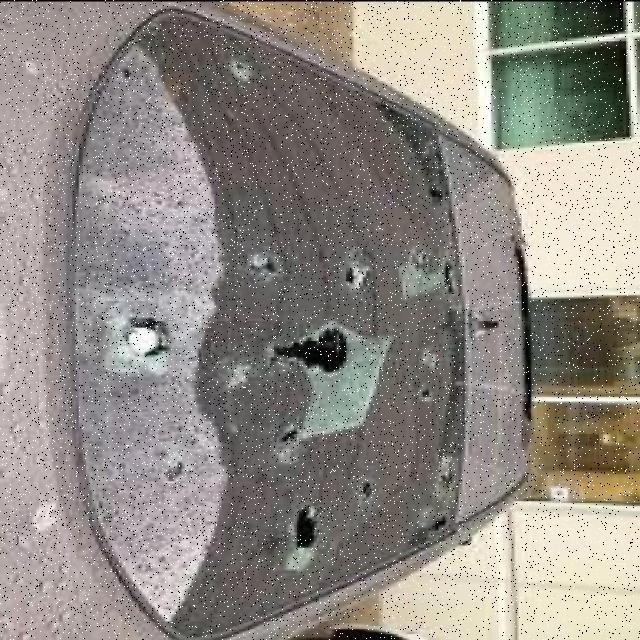damage: (71, 12, 465, 634)
